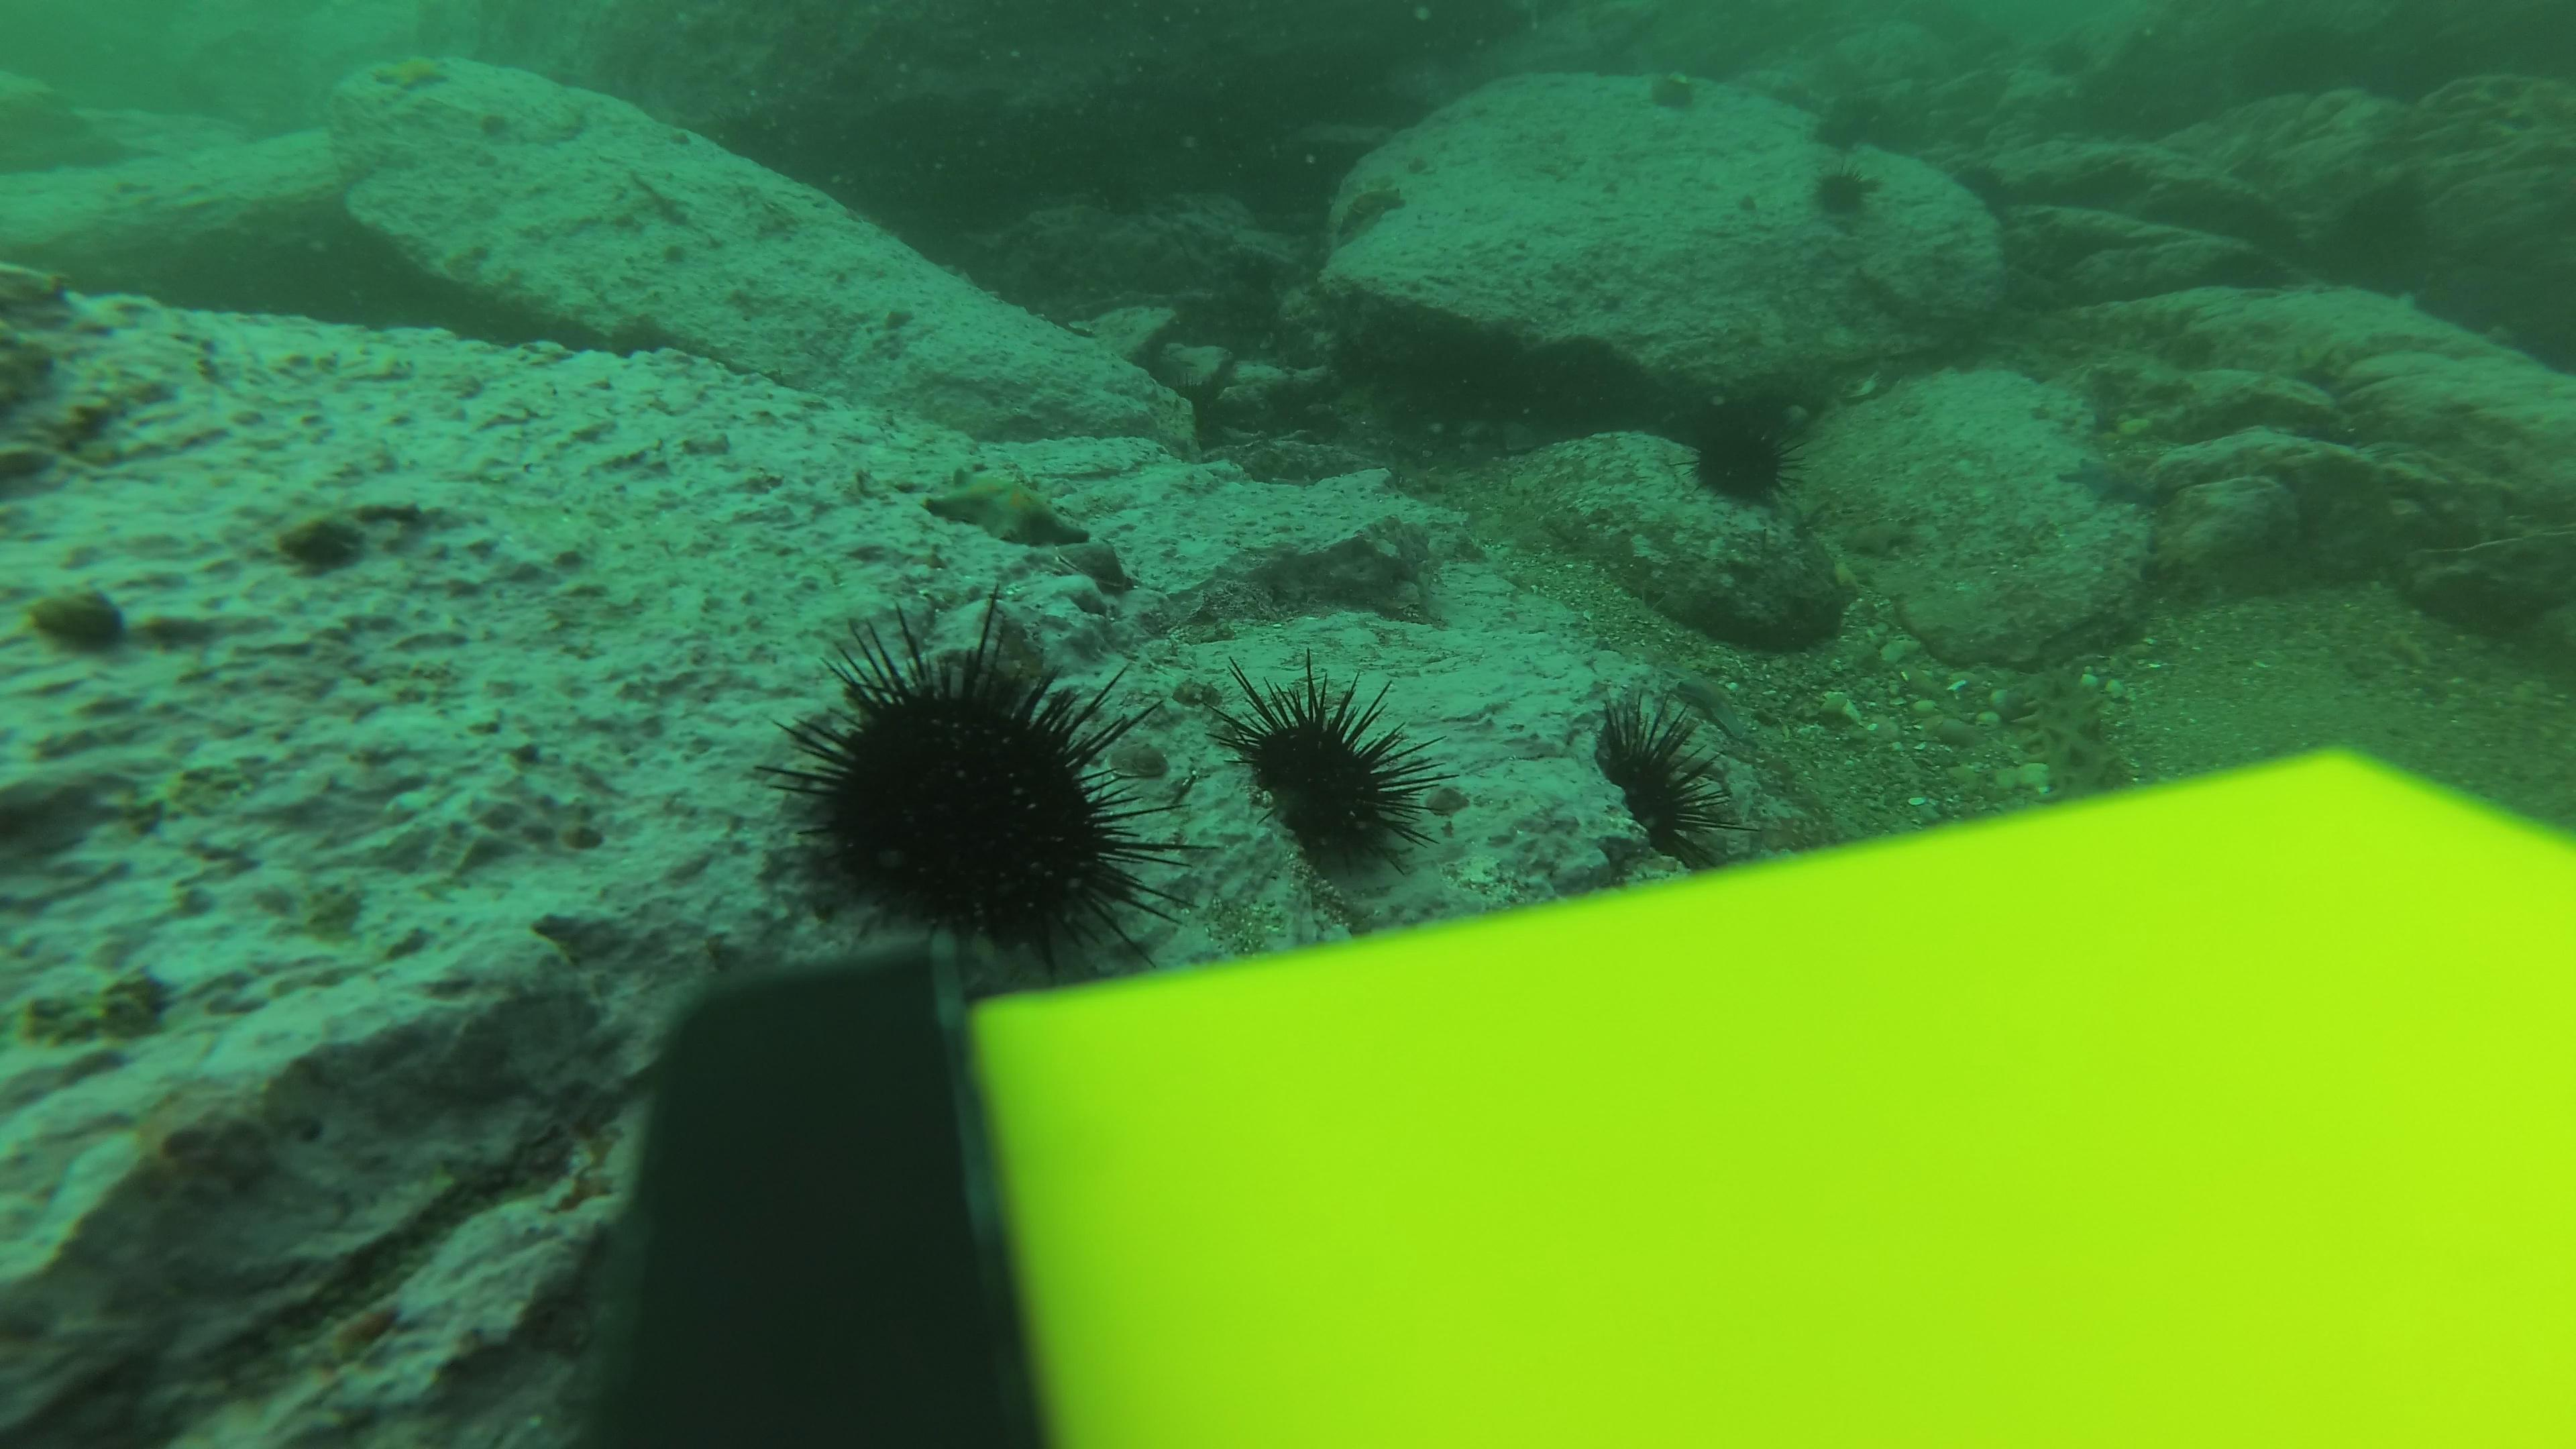urchin: (766, 609, 1169, 959), (1233, 674, 1456, 883), (1575, 706, 1744, 865), (1674, 386, 1812, 531), (1806, 163, 1882, 234), (1647, 60, 1707, 113)
